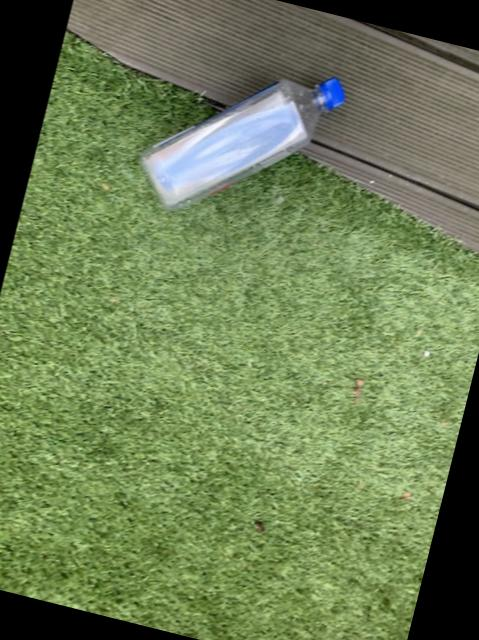plastic: (142, 76, 345, 207)
